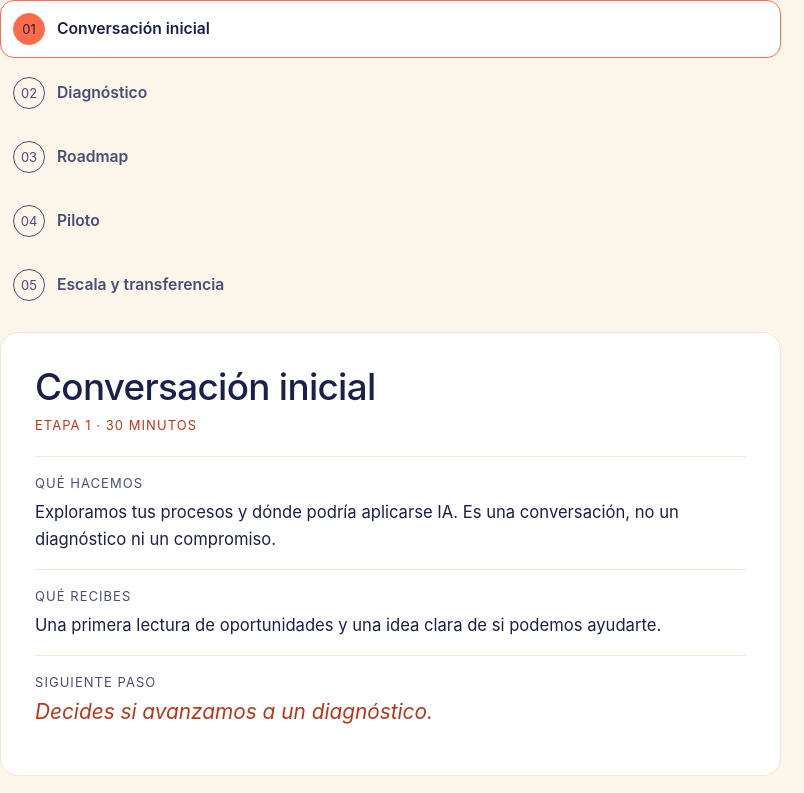
Test case: dirección y escena › al hidratar, el recorrido se marca como listo y con su etapa
Click the tab "05 Escala y transferencia".
click(119, 285)  # box [13,269,224,301]
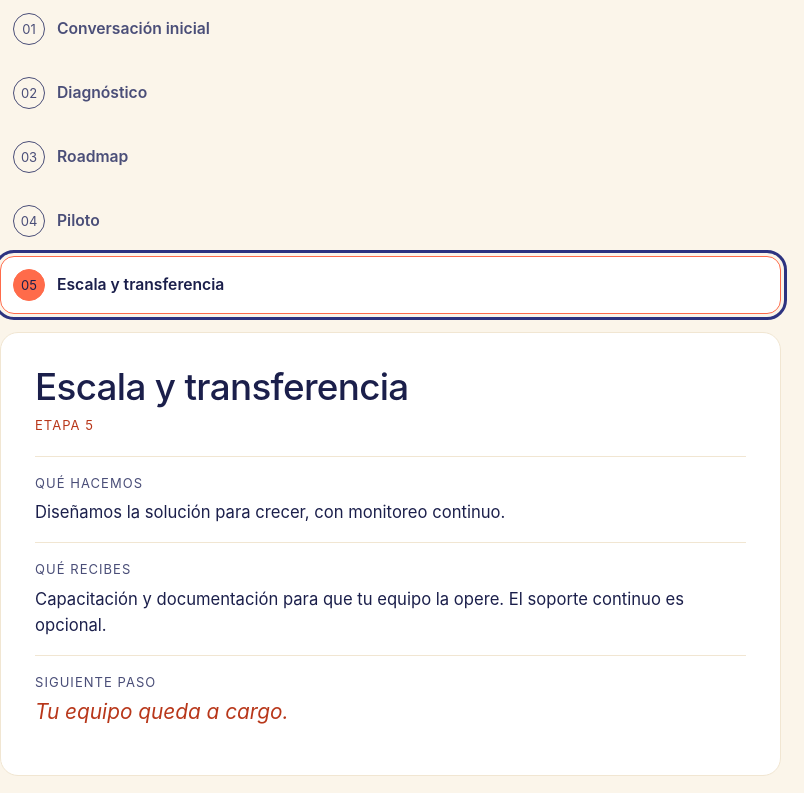
Expected: the element that starts with "Conversación inicial" has attribute data-selected="5"
